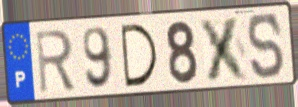8: (164, 18, 200, 86)
9: (81, 26, 115, 91)
D: (118, 22, 161, 90)
R: (34, 28, 78, 96)
S: (246, 11, 287, 82)
X: (197, 14, 251, 83)
